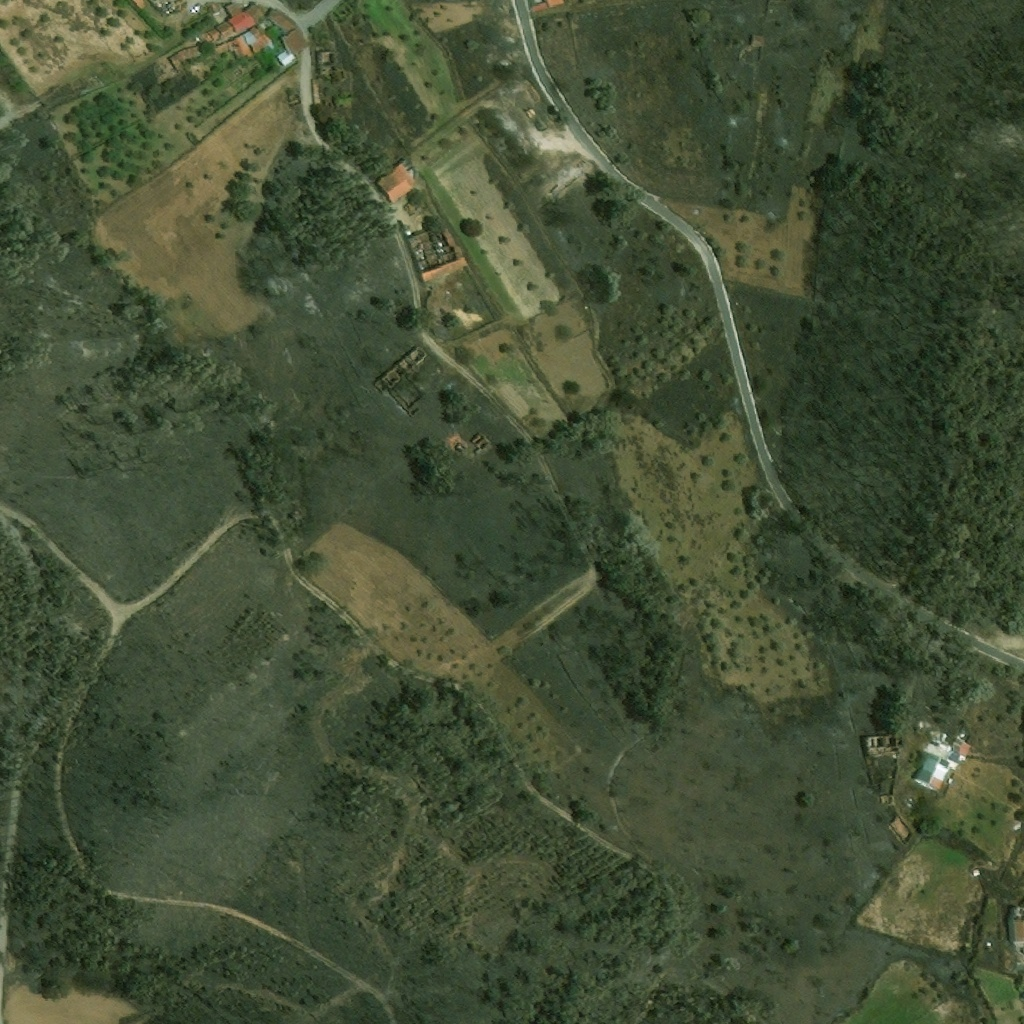0 no-damage: (911, 749, 951, 791), (374, 163, 416, 202), (275, 27, 310, 67), (223, 0, 265, 32), (212, 34, 253, 63), (241, 24, 273, 53), (168, 43, 202, 68), (947, 734, 973, 765), (267, 8, 297, 32), (214, 20, 235, 38), (198, 27, 221, 43), (971, 869, 980, 877)
3 destroyed: (402, 221, 468, 284), (380, 345, 428, 388), (525, 82, 562, 132), (866, 732, 907, 753), (889, 816, 915, 844), (311, 79, 332, 107), (316, 50, 337, 75), (471, 432, 490, 454), (453, 436, 470, 453), (287, 92, 302, 107)
4 un-classified: (1009, 906, 1023, 942), (532, 0, 564, 15), (131, 0, 147, 9)
